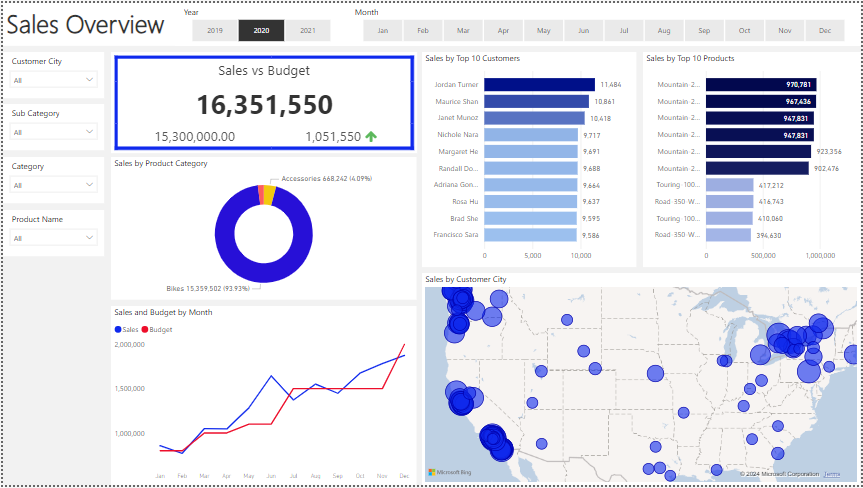

The page's visual inventory and layout, read from the dashboard file:
{"tool":"powerbi","page":{"name":"Sales Overview","canvas":[1280,720],"ordinal":0},"visuals":[{"type":"textbox","box":[0,0,1280,64],"z":0},{"type":"slicer","fields":{"Values":["DIM_Calendar.Year"]},"box":[256,0,256,64],"z":1000},{"type":"slicer","fields":{"Values":["DIM_Calendar.MonthShort"]},"box":[512,0,768,64],"z":2000},{"type":"slicer","fields":{"Values":["DIM_Customers.Customer City"]},"box":[0,73,150.5,69.3],"z":3000},{"type":"slicer","fields":{"Values":["DIM_Products.Product Category"]},"box":[0,229.9,150.5,69.3],"z":4000},{"type":"slicer","fields":{"Values":["DIM_Products.Product Name"]},"box":[0,308.4,150.5,69.3],"z":5000},{"type":"slicer","fields":{"Values":["DIM_Products.Sub Category"]},"box":[0,151.4,150.5,69.3],"z":6000},{"type":"barChart","title":"Sales by Top 10 Products","fields":{"Category":["DIM_Products.Product Name"],"Y":["Analysis Metrics.Sales"]},"box":[955.2,73,324.8,321.1],"z":7000},{"type":"lineChart","fields":{"Category":["DIM_Calendar.MonthShort"],"Y":["Analysis Metrics.Sales","Analysis Metrics.Budget"]},"box":[160.7,452.8,456.3,267.2],"z":8000},{"type":"barChart","title":"Sales by Top 10 Customers","fields":{"Category":["DIM_Customers.Full Name"],"Y":["Analysis Metrics.Sales"]},"box":[625.9,73,320.2,321.1],"z":9000},{"type":"donutChart","fields":{"Y":["Analysis Metrics.Sales"],"Series":["DIM_Products.Product Category"]},"box":[160.6,229.9,456.2,213.5],"z":10000},{"type":"map","fields":{"Category":["DIM_Customers.Customer City"],"Size":["Analysis Metrics.Sales"]},"box":[625.9,403.3,654.1,316.6],"z":12000},{"type":"BBED0A4D4D8D44CE93CF2DAFADEE466C","fields":{"actual":["Analysis Metrics.Sales"],"target2":["Analysis Metrics.Sales / Budget"],"target1":["Analysis Metrics.Budget"]},"box":[160.5,73.4,456.6,151.3],"z":13001}]}

Visuals, with their boxes in screenshot pixels (x1, y1, x2, y2), scaled from the page's 1280x720 canvas onto the 863x488 screenshot:
textbox: {"x1": 0, "y1": 0, "x2": 862, "y2": 43}
slicer - DIM_Calendar.Year: {"x1": 173, "y1": 0, "x2": 345, "y2": 43}
slicer - DIM_Calendar.MonthShort: {"x1": 345, "y1": 0, "x2": 862, "y2": 43}
slicer - DIM_Customers.Customer City: {"x1": 0, "y1": 49, "x2": 101, "y2": 96}
slicer - DIM_Products.Product Category: {"x1": 0, "y1": 156, "x2": 101, "y2": 203}
slicer - DIM_Products.Product Name: {"x1": 0, "y1": 209, "x2": 101, "y2": 256}
slicer - DIM_Products.Sub Category: {"x1": 0, "y1": 103, "x2": 101, "y2": 150}
"Sales by Top 10 Products" barChart: {"x1": 644, "y1": 49, "x2": 862, "y2": 267}
lineChart - DIM_Calendar.MonthShort x Analysis Metrics.Sales: {"x1": 108, "y1": 307, "x2": 416, "y2": 487}
"Sales by Top 10 Customers" barChart: {"x1": 422, "y1": 49, "x2": 638, "y2": 267}
donutChart - Analysis Metrics.Sales x DIM_Products.Product Category: {"x1": 108, "y1": 156, "x2": 416, "y2": 301}
map - DIM_Customers.Customer City x Analysis Metrics.Sales: {"x1": 422, "y1": 273, "x2": 862, "y2": 487}
BBED0A4D4D8D44CE93CF2DAFADEE466C - Analysis Metrics.Sales x Analysis Metrics.Sales / Budget: {"x1": 108, "y1": 50, "x2": 416, "y2": 152}
